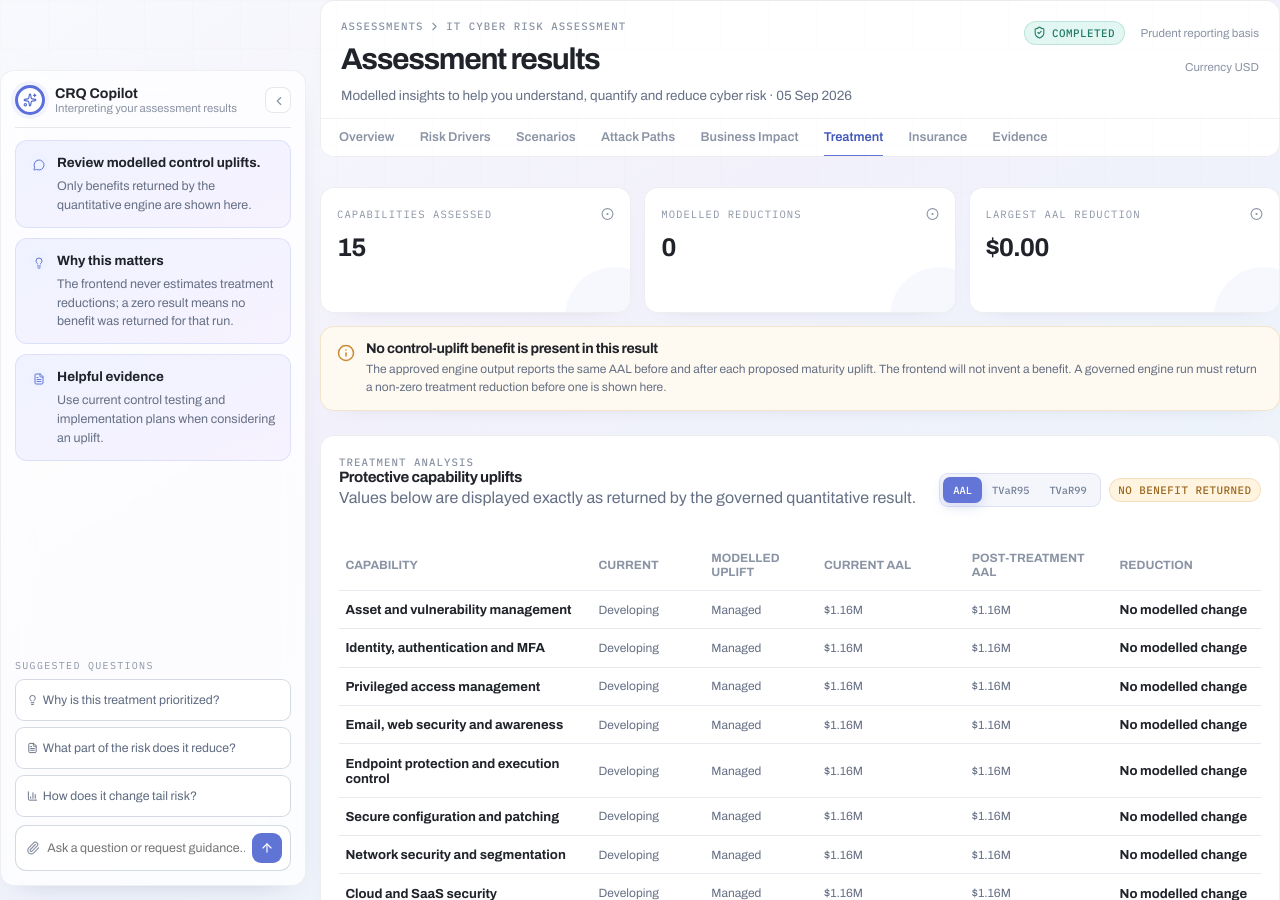
Test: canonical result presentation › switches treatment values between governed AAL and TVaR measures
Click the button "TVaR95" at (1011, 490), box x1=982 y1=476 x2=1039 y2=502
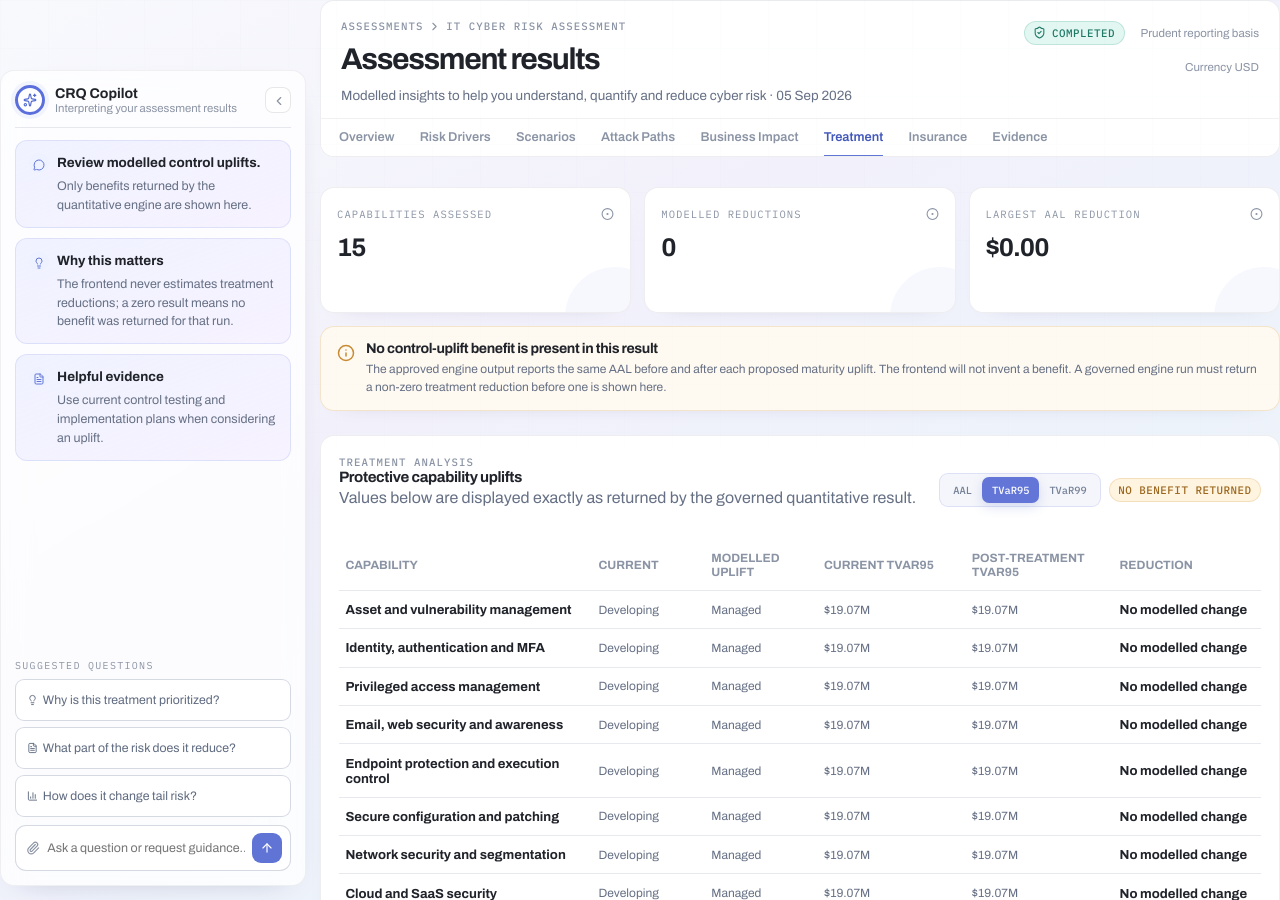
Now the text "Current TVaR95" is shown, box x1=824 y1=558 x2=934 y2=572
Now the text "Post-treatment TVaR95" is shown, box x1=972 y1=551 x2=1085 y2=579
